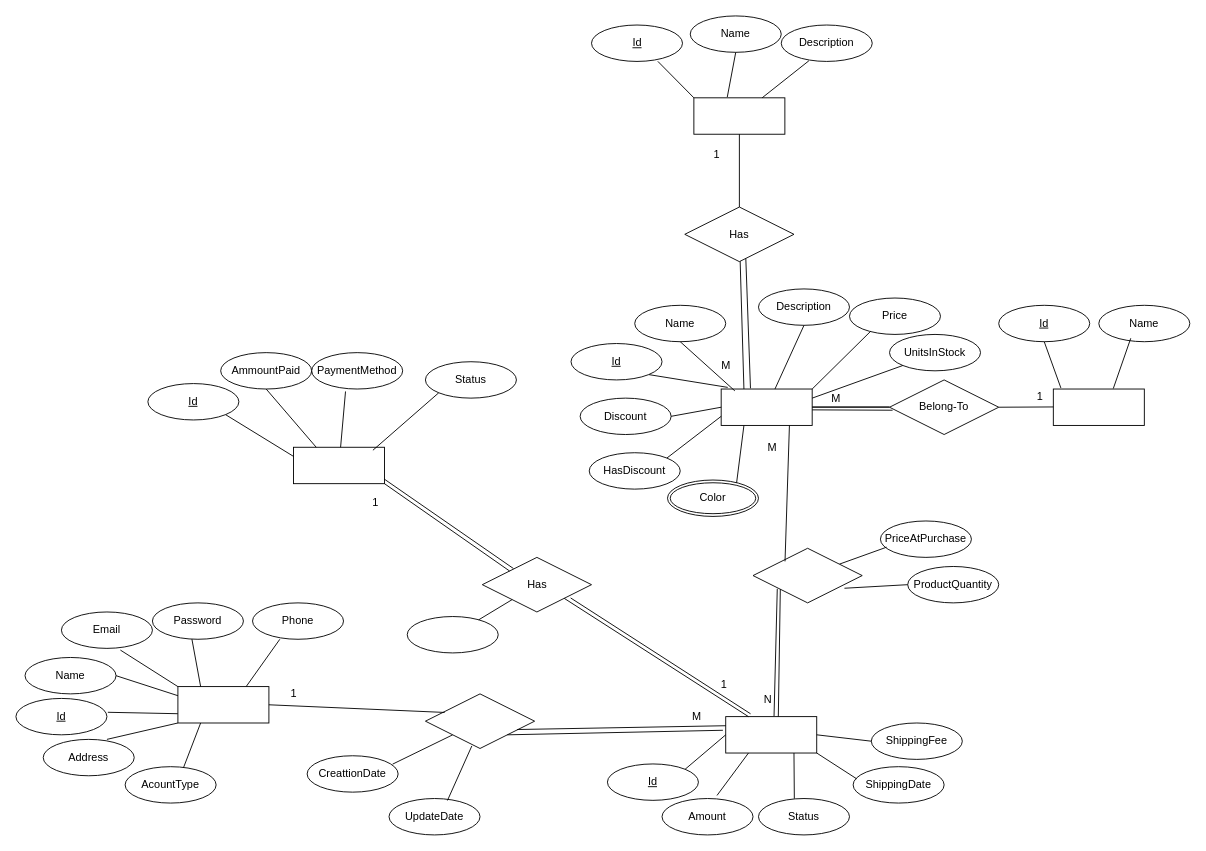
The diagram is 1206 pixels wide and 851 high, and some of its shapes have lost their labels. Here are the shapes that lost their labels. From the top down, the centre of each, then its label:
At point (739, 115): "Brand".
At point (766, 406): "Product".
At point (1098, 406): "Category".
At point (338, 465): "Payment".
At point (807, 575): "Contain".
At point (452, 634): "PatmentDate".
At point (223, 704): "User".
At point (480, 720): "Place".
At point (771, 734): "Order".
